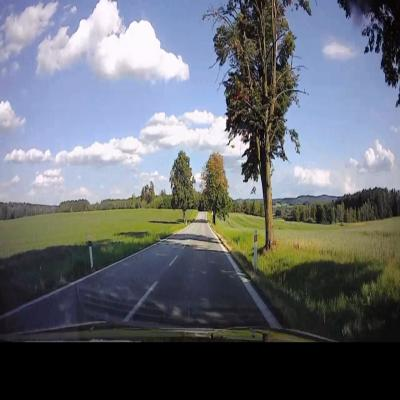clear-road: (97, 212, 245, 301)
